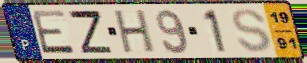1: (201, 8, 229, 54)
9: (155, 8, 191, 55)
E: (29, 9, 77, 56)
H: (113, 8, 157, 55)
S: (230, 7, 273, 54)
Z: (65, 9, 115, 55)
